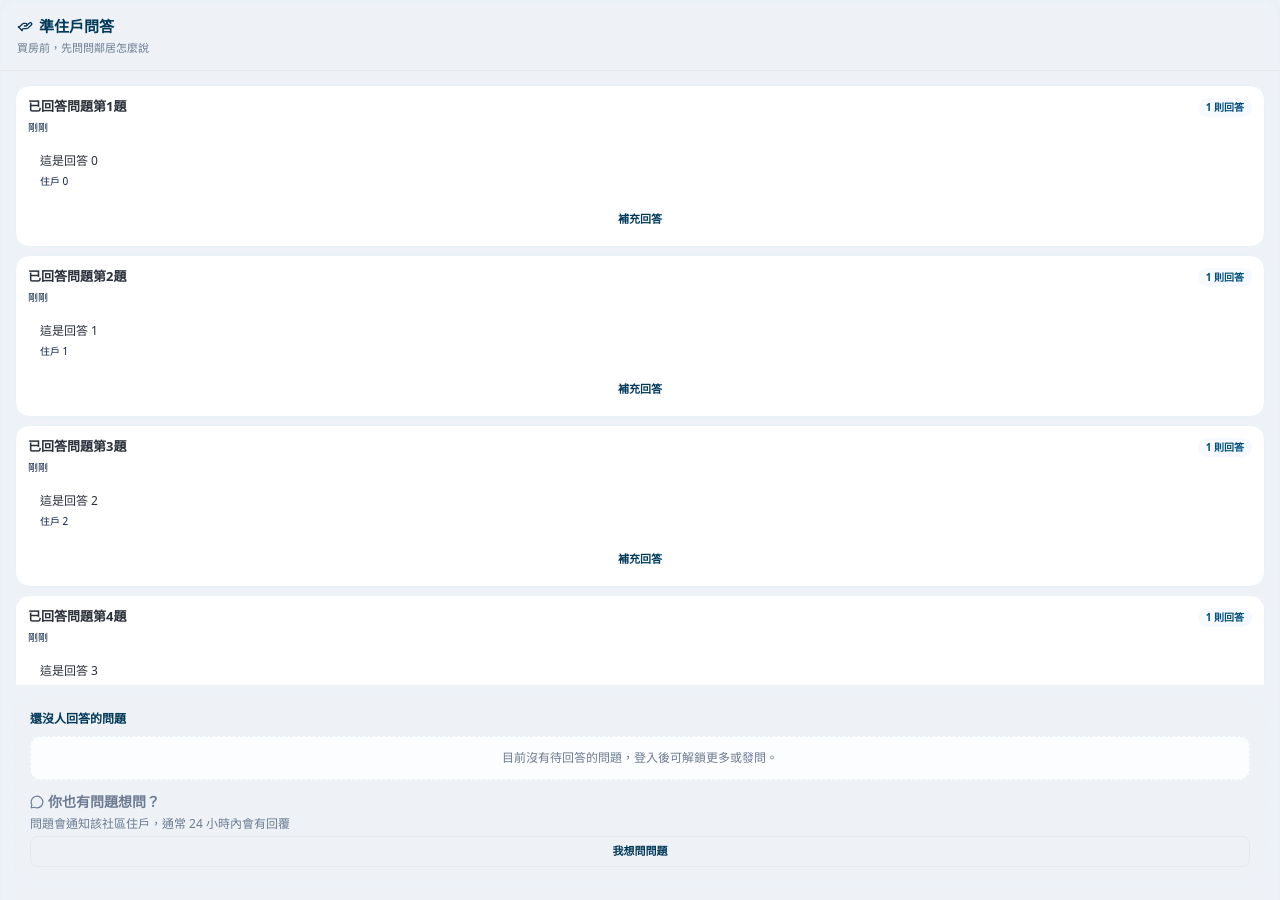
Test: QASection 虛擬化測試 › activeQuestion 狀態測試 › 點擊回答按鈕後，activeQuestion 應正確設定
Note: 點擊第一個回答按鈕
Click the button "補充回答" below "住戶 0" at (640, 220), box [28,205,1252,234]
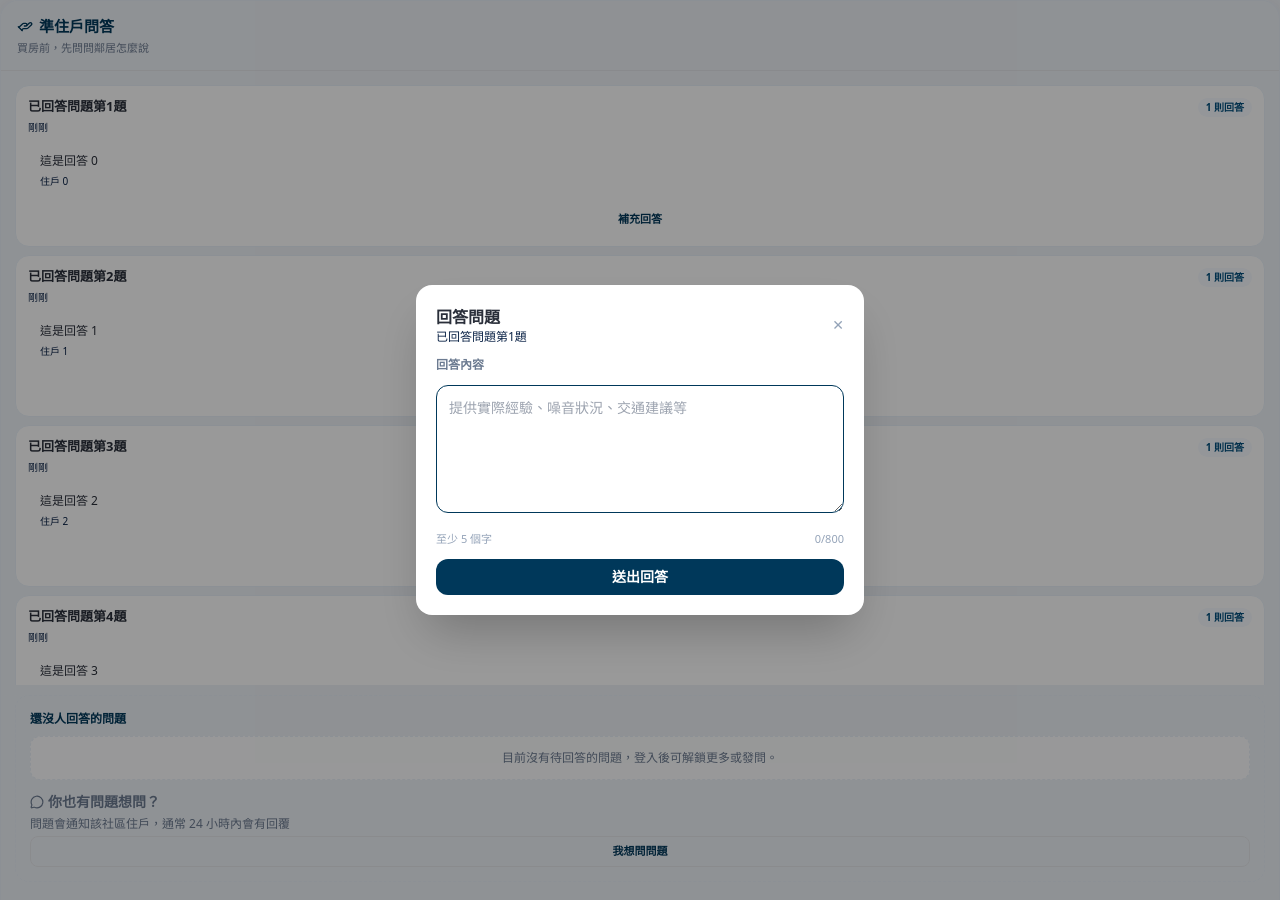
Expected: the dialog is shown, [416,285,864,615]
Expected: the dialog shows "已回答問題第1題", [436,328,527,345]
